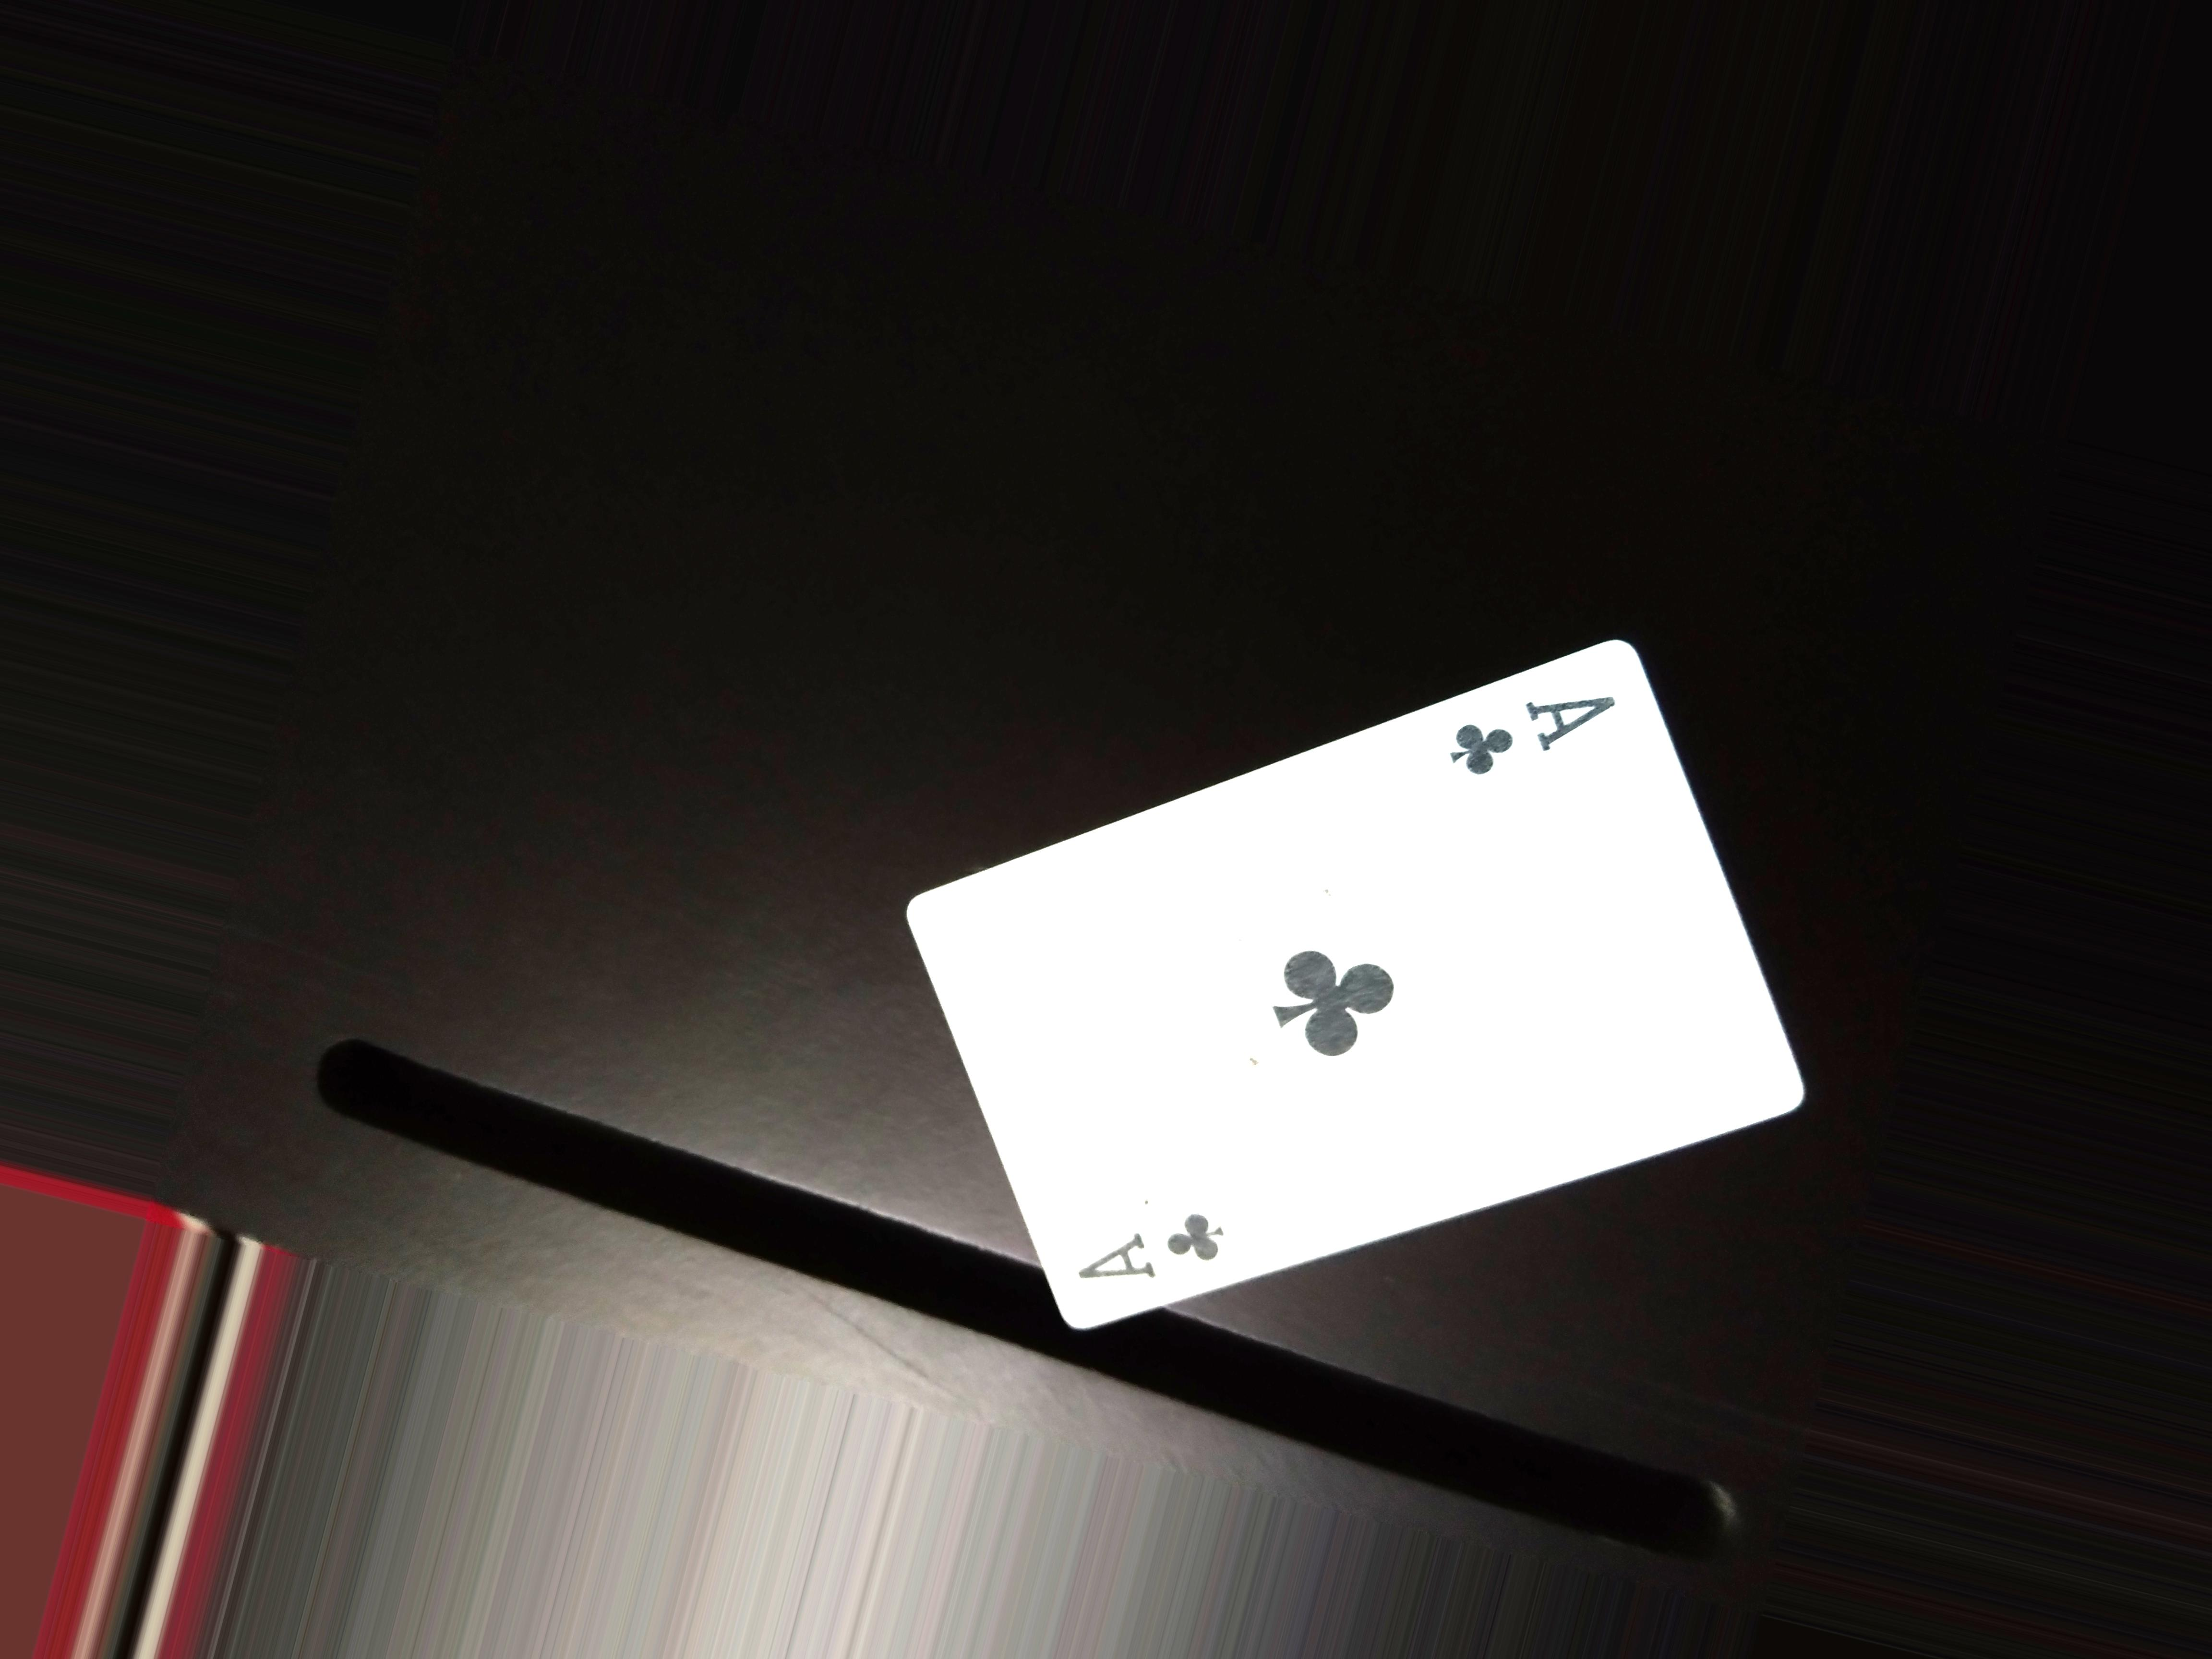AC: (1439, 671, 1641, 789)
